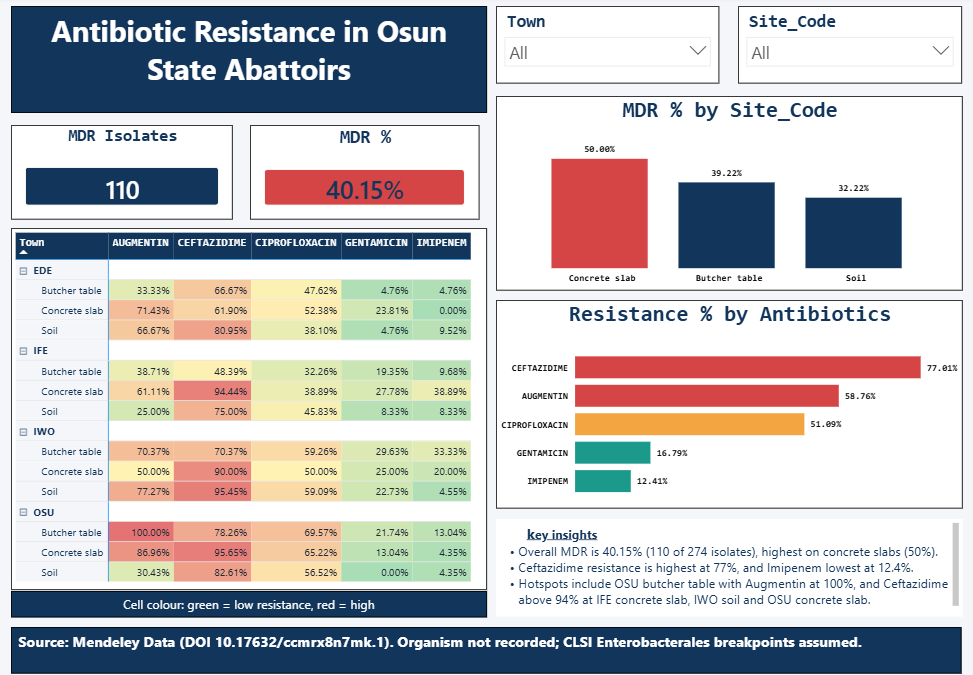

The page's visual inventory and layout, read from the dashboard file:
{"tool":"powerbi","page":{"name":"AMR OVERVIEW","canvas":[1280,890],"ordinal":0},"visuals":[{"type":"clusteredBarChart","fields":{"Category":["AMR.Antibiotics"],"Y":["AMR.Resistance %"]},"box":[661.4,390.4,601.7,269.5],"z":0},{"type":"pivotTable","fields":{"Rows":["AMR.Town","AMR.Site_Code"],"Columns":["AMR.Antibiotics"],"Values":["AMR.Resistance %"]},"box":[36.7,298.6,614,467],"z":1000},{"type":"cardVisual","title":"MDR %","fields":{"Data":["AMR.MDR %"]},"box":[344.5,165.4,295.5,122.5],"z":2000},{"type":"cardVisual","title":"MDR Isolates","fields":{"Data":["AMR.MDR Isolates"]},"box":[36.7,165.4,286.3,122.5],"z":3000},{"type":"clusteredColumnChart","fields":{"Y":["AMR.MDR %"],"Category":["AMR.Site_Code"]},"box":[661.4,127.1,601.7,251.1],"z":4000},{"type":"slicer","fields":{"Values":["AMR.Town"]},"box":[661.4,12.2,287.8,99.5],"z":5000},{"type":"slicer","fields":{"Values":["AMR.Site_Code"]},"box":[973.8,12.2,289.4,99.5],"z":6000},{"type":"textbox","box":[36.7,12.2,614,137.8],"z":7000},{"type":"textbox","box":[36.7,813,1226.4,59.7],"z":8000},{"type":"textbox","box":[36.7,765.6,614,33.7],"z":9000},{"type":"textbox","box":[661.4,673.7,601.7,125.6],"z":9001}]}

Visuals, with their boxes in screenshot pixels (x1, y1, x2, y2), scaled from the page's 1280x890 canvas onto the 973x675 screenshot:
clusteredBarChart - AMR.Antibiotics x AMR.Resistance %: (left=503, top=296, right=960, bottom=500)
pivotTable - AMR.Town x AMR.Site_Code: (left=28, top=226, right=495, bottom=581)
"MDR %" cardVisual: (left=262, top=125, right=486, bottom=218)
"MDR Isolates" cardVisual: (left=28, top=125, right=246, bottom=218)
clusteredColumnChart - AMR.MDR % x AMR.Site_Code: (left=503, top=96, right=960, bottom=287)
slicer - AMR.Town: (left=503, top=9, right=722, bottom=85)
slicer - AMR.Site_Code: (left=740, top=9, right=960, bottom=85)
textbox: (left=28, top=9, right=495, bottom=114)
textbox: (left=28, top=617, right=960, bottom=662)
textbox: (left=28, top=581, right=495, bottom=606)
textbox: (left=503, top=511, right=960, bottom=606)
